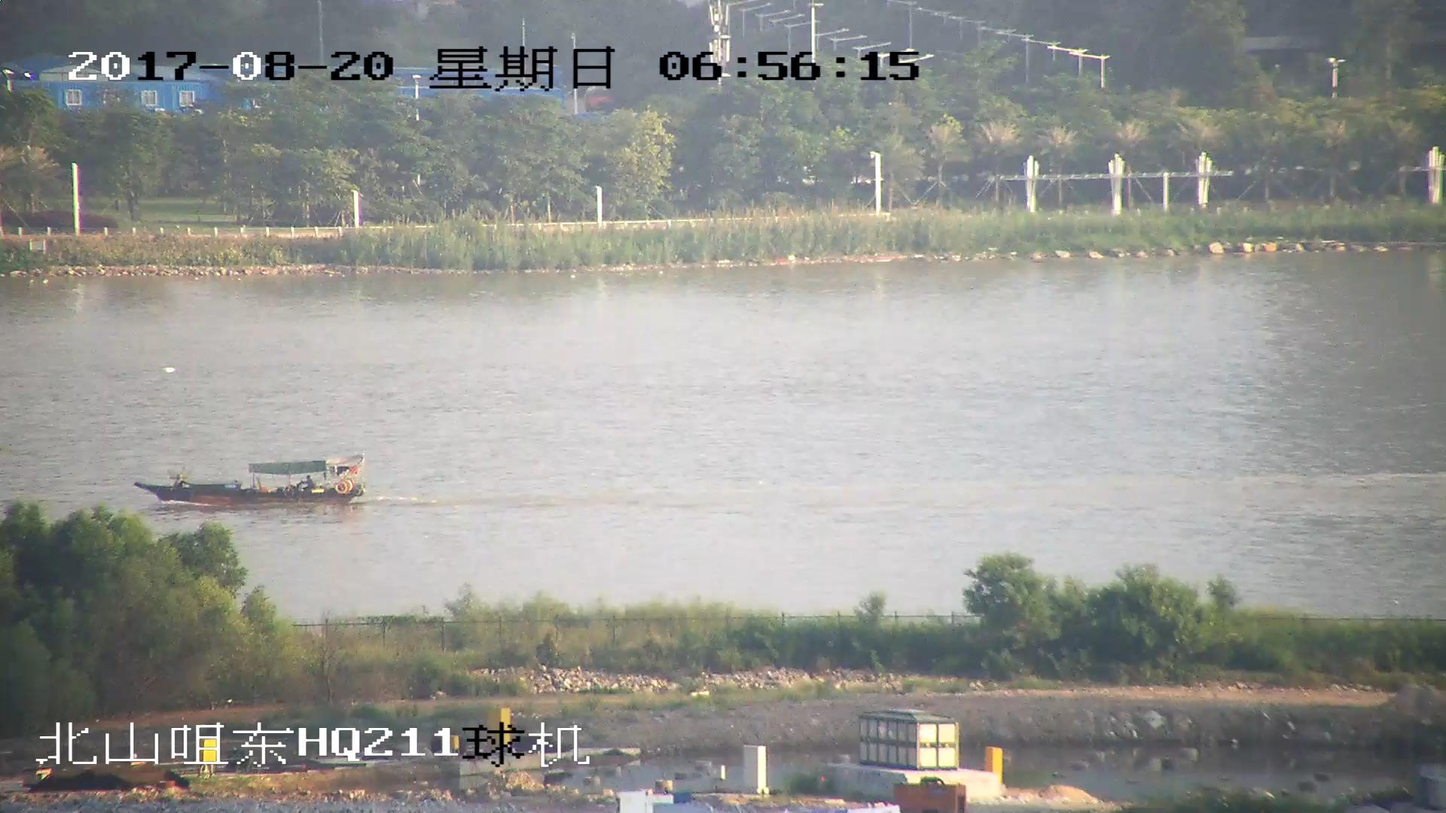fishing boat: (141, 455, 362, 505)
